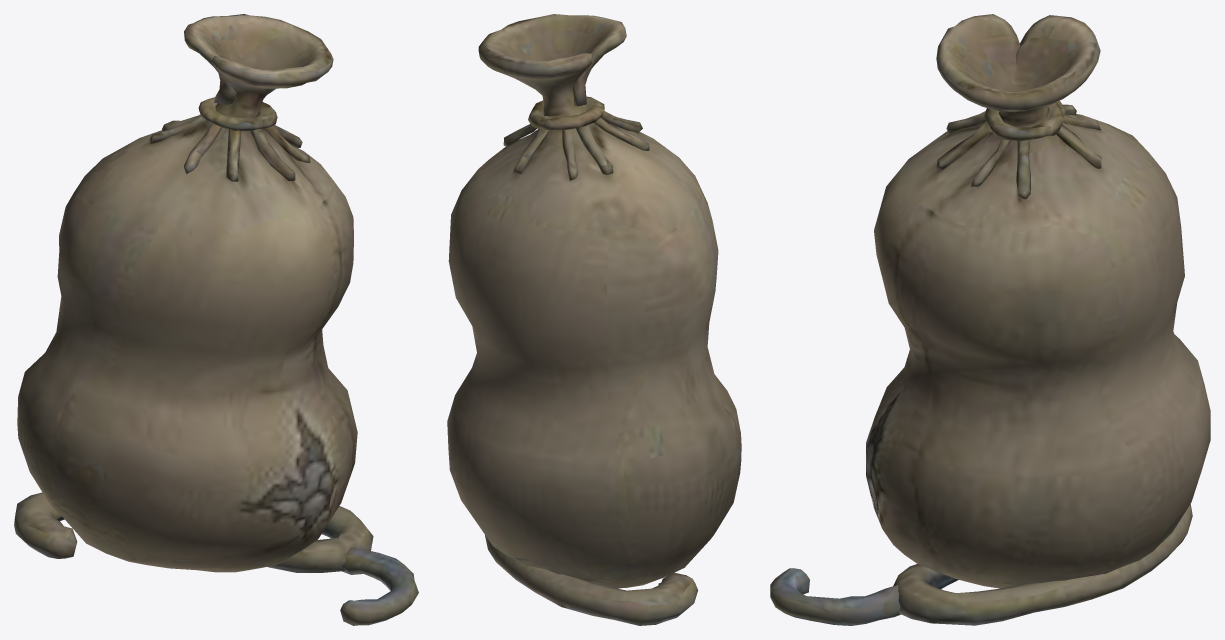
File: av_saco.glb
3 views of the same model, side by side, from view 1: azimuth 30°, elevation 25°; view 2: azimuth 150°, elevation 25°; view 3: azimuth 270°, elevation 25° (orthographic). The views are drawn at different scales.
Visible parts, largest first — view 1: Mesh_0.005; view 2: Mesh_0.005; view 3: Mesh_0.005.
Part boxes in pixels (bbox=[...]): Mesh_0.005: bbox=[14, 14, 418, 625]; Mesh_0.005: bbox=[447, 14, 741, 625]; Mesh_0.005: bbox=[770, 14, 1210, 625].
Bounding box in the file's own units: 0.1348 × 0.2334 × 0.167.
1 material, 1 textured.
